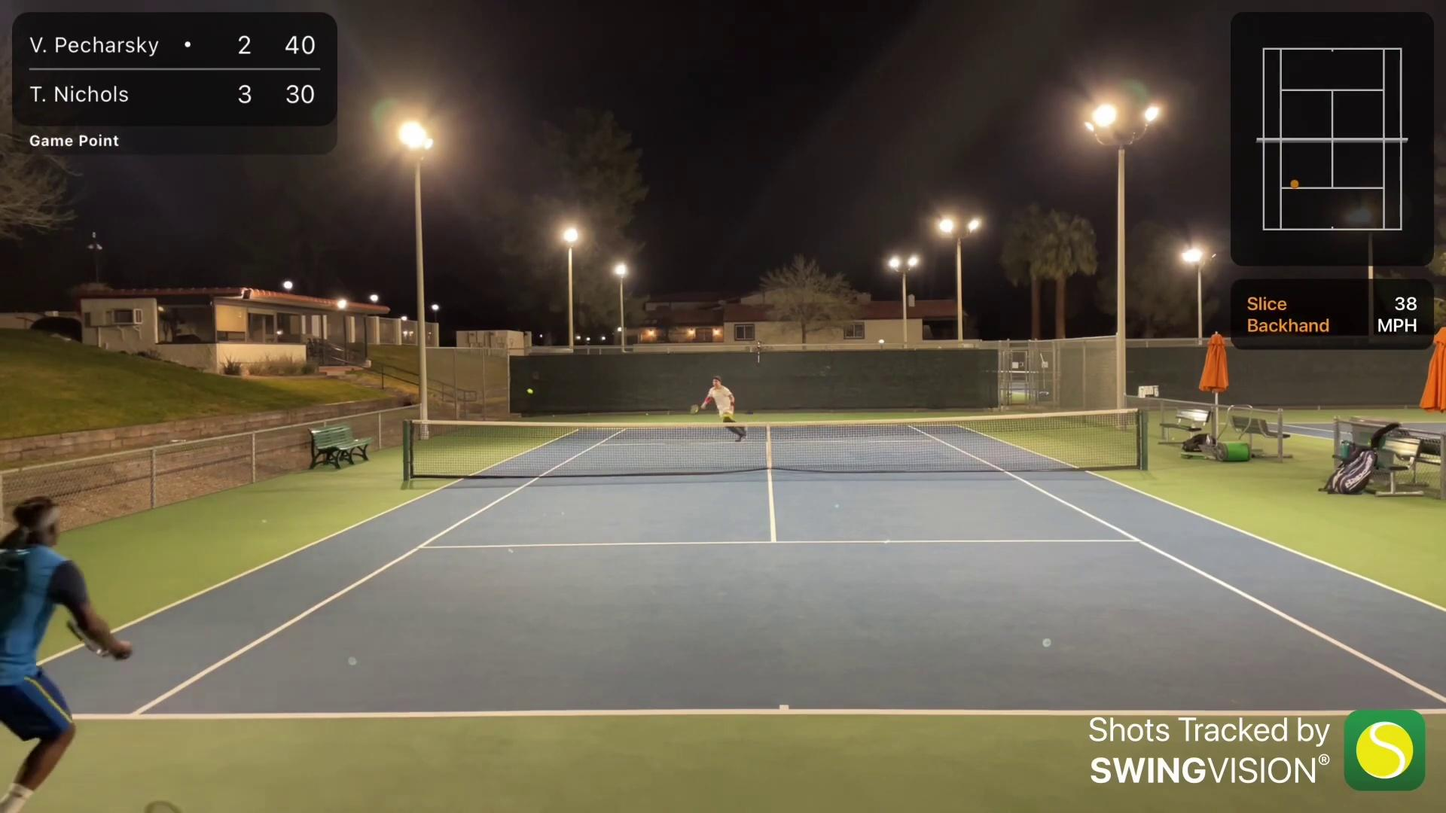ball: (528, 388, 535, 395)
